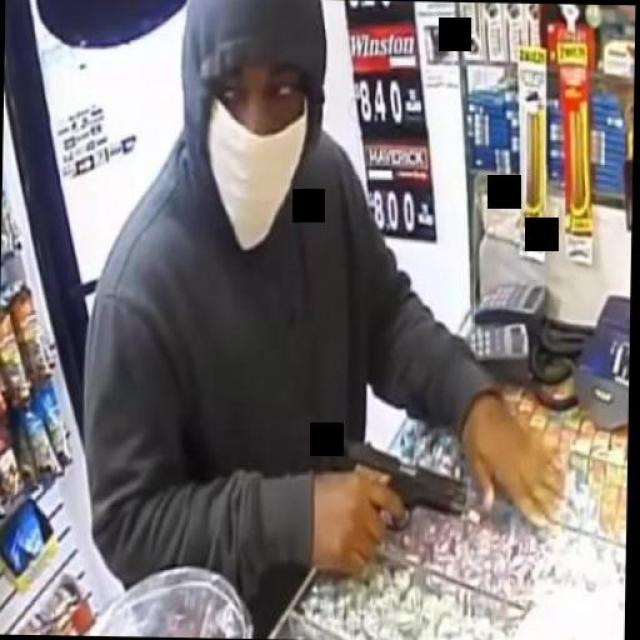gun: (337, 436, 468, 576)
